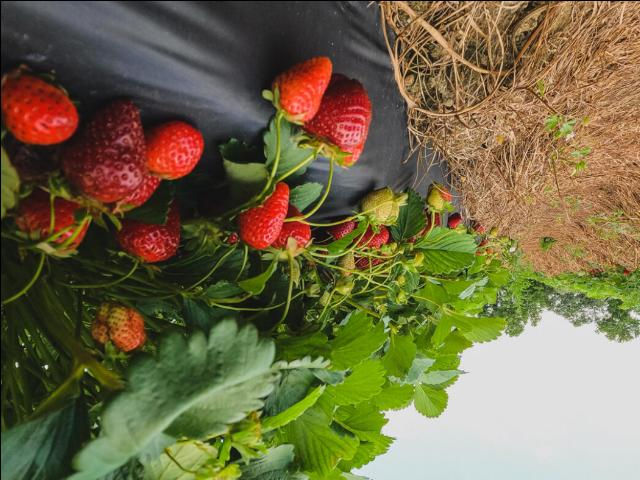Strawberries: (63, 95, 143, 203), (308, 79, 370, 165), (2, 74, 78, 144), (267, 54, 331, 122), (120, 200, 182, 262), (233, 179, 289, 247), (16, 200, 86, 250), (142, 121, 202, 177), (274, 204, 310, 250), (356, 224, 388, 248), (328, 215, 354, 239), (448, 213, 464, 227)
